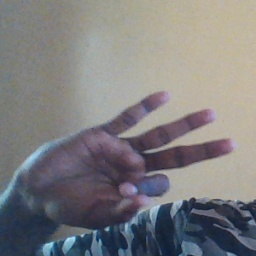K: (20, 91, 236, 228)
